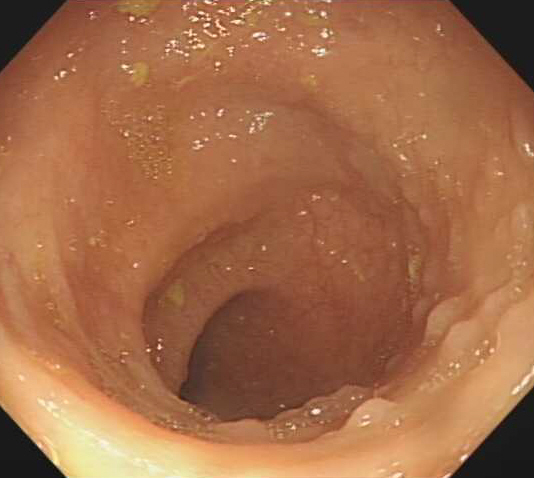adenoma: (410, 296, 477, 358), (483, 284, 523, 344), (340, 397, 397, 429), (214, 413, 271, 438)
